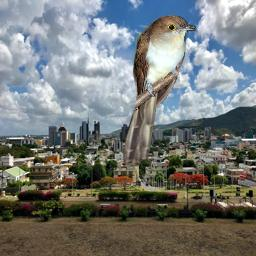Cuckoo: (123, 14, 196, 165)
